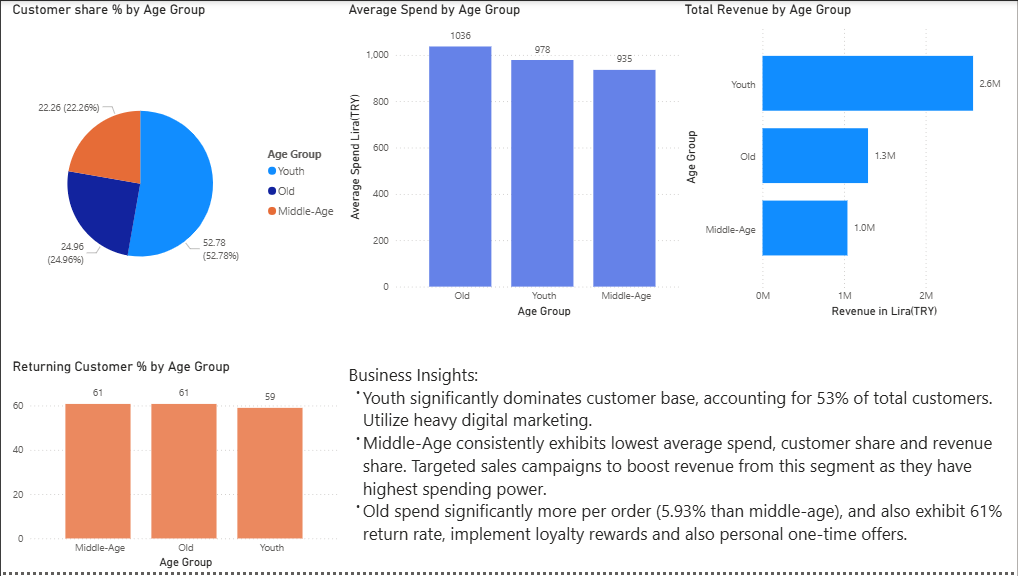

Layout of this report page (visuals, bound fields, positions):
{"tool":"powerbi","page":{"name":"Demographics","canvas":[1280,720],"ordinal":0},"visuals":[{"type":"pieChart","title":"Customer share % by Age Group","fields":{"Category":["Age Segmentation.Age_Group"],"Y":["Sum(Age Segmentation.customer_pct)"]},"box":[9.4,0,423.3,440.3],"z":0},{"type":"columnChart","title":"Average Spend by Age Group","fields":{"Category":["Age Segmentation.Age_Group"],"Y":["Sum(Age Segmentation.Average_Spend)"]},"box":[432.8,0,442.2,402.5],"z":1000},{"type":"clusteredBarChart","title":" Total Revenue by Age Group","fields":{"Category":["Age Segmentation.Age_Group"],"Y":["Sum(Age Segmentation.Total_Revenue)"]},"box":[856.1,0,423.3,402.5],"z":2000},{"type":"columnChart","title":"Returning Customer % by Age Group","fields":{"Category":["Age Segmentation.Age_Group"],"Y":["Sum(Age Segmentation.returning_cust_pct)"]},"box":[9,450,423,270],"z":3000},{"type":"textbox","box":[432.8,449.8,846.6,270.2],"z":3001}]}

Visuals, with their boxes in screenshot pixels (x1, y1, x2, y2), scaled from the page's 1280x720 canvas onto the 1018x576 screenshot:
"Customer share % by Age Group" pieChart: left=7, top=0, right=344, bottom=352
"Average Spend by Age Group" columnChart: left=344, top=0, right=696, bottom=322
" Total Revenue by Age Group" clusteredBarChart: left=681, top=0, right=1017, bottom=322
"Returning Customer % by Age Group" columnChart: left=7, top=360, right=344, bottom=575
textbox: left=344, top=360, right=1017, bottom=575
